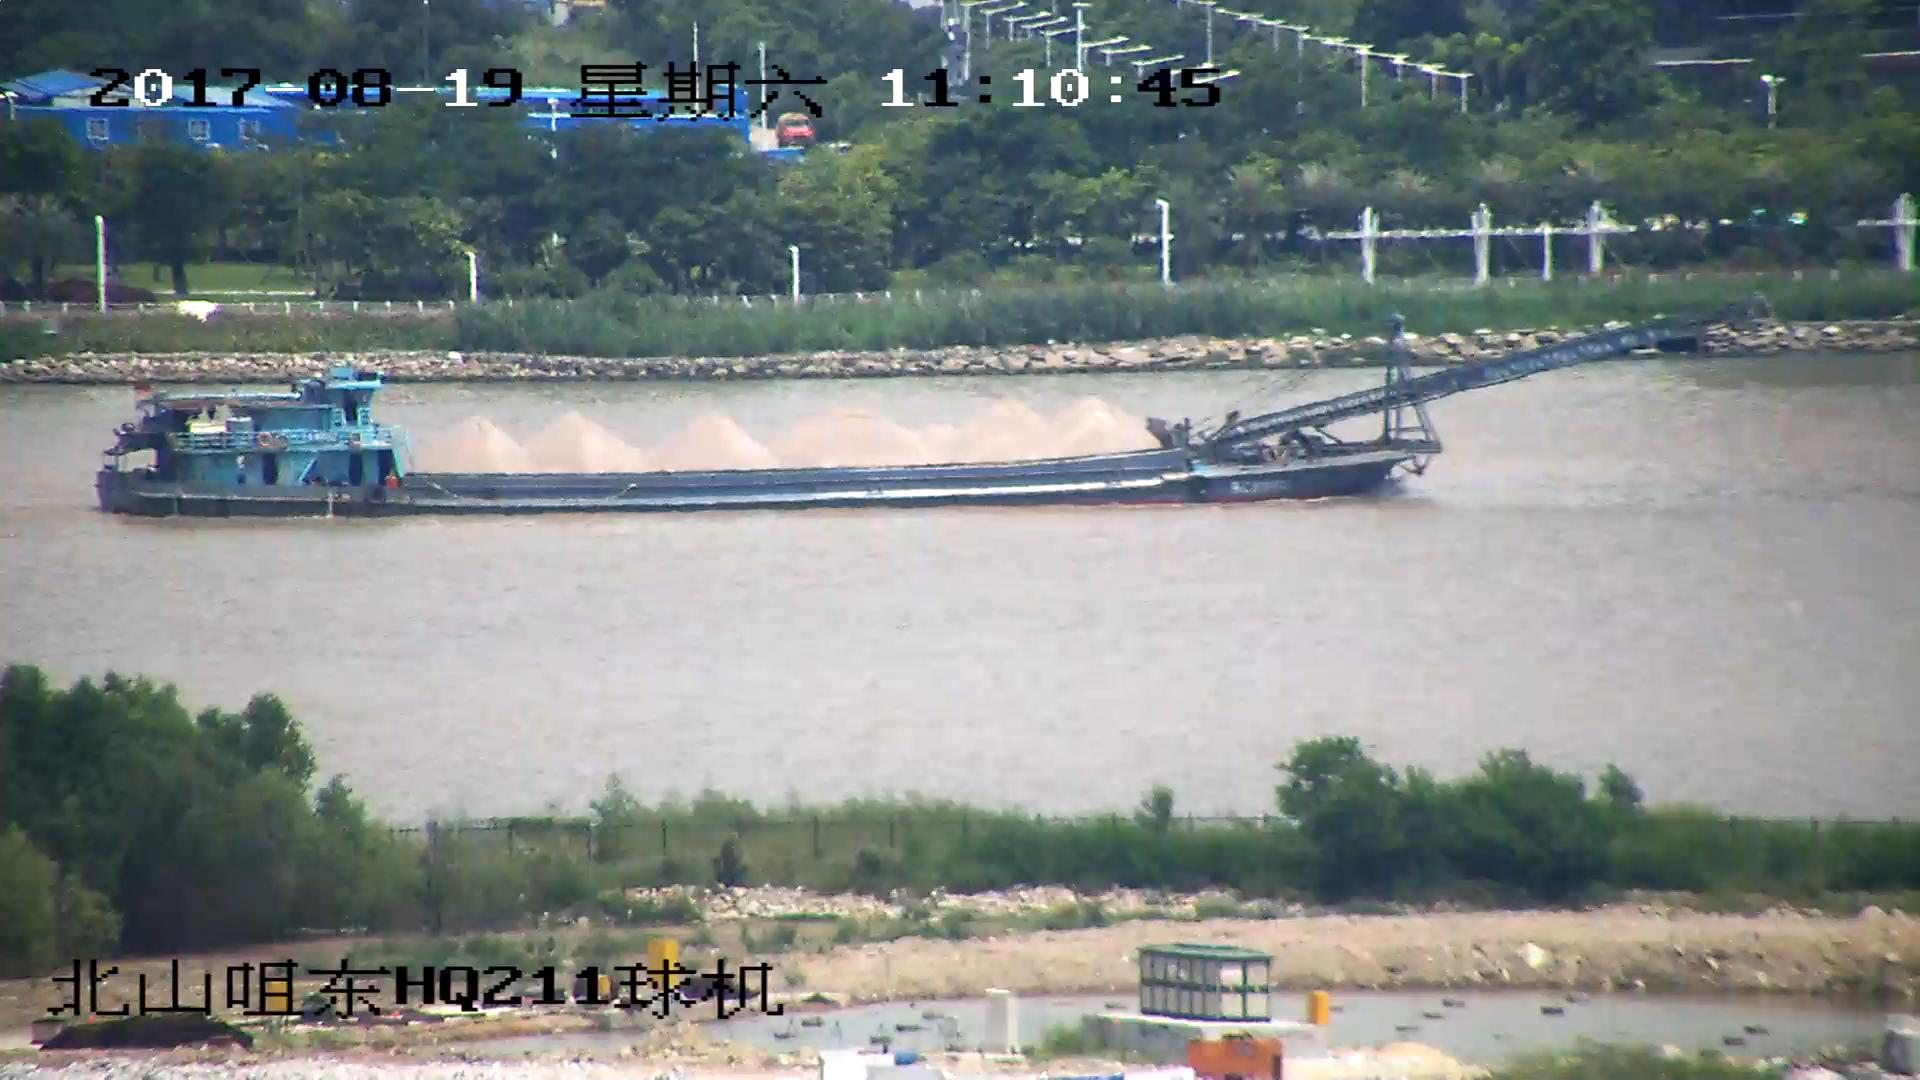ore carrier: (96, 307, 1736, 519)
